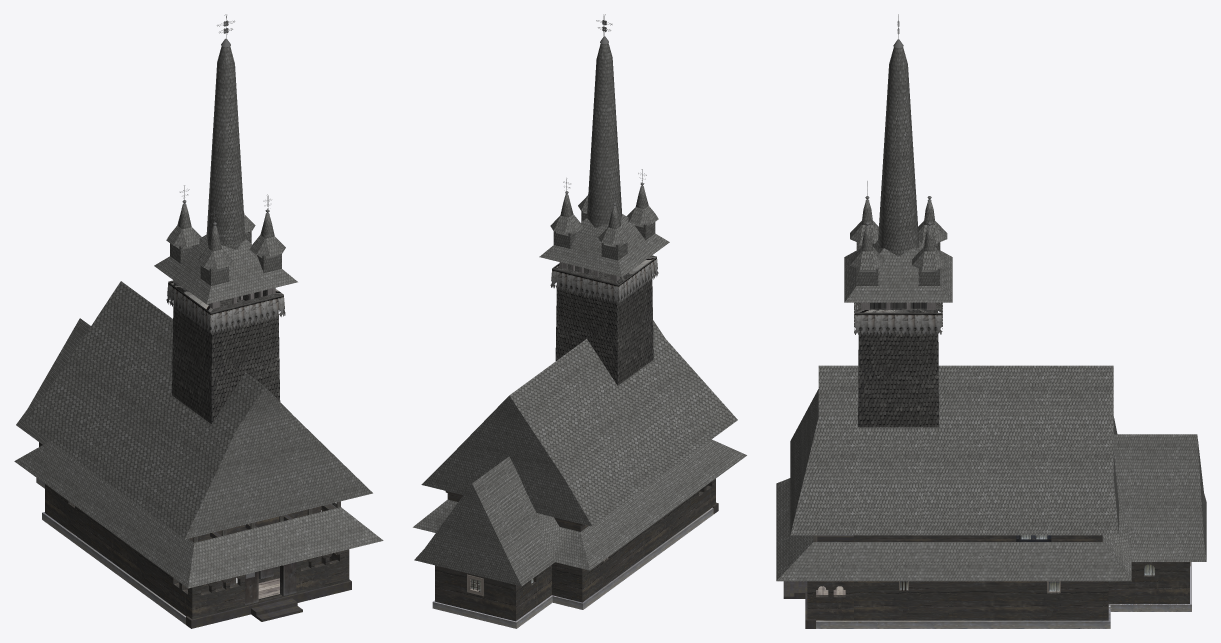
The model's file is DanilovoChurch.FBX.
3 views of the same model, side by side, from view 1: azimuth 30°, elevation 25°; view 2: azimuth 150°, elevation 25°; view 3: azimuth 270°, elevation 25° (orthographic). The views are drawn at different scales.
Parts seen in each view (by area): view 1: Roof2, Roof1, SpireBody, SpireRoof, MainBlock1, Porch, SpireRoofBase, SpireSkirt, Base001, Base, DoorwayOuter, SpireSubSpireRoof003 (+3 smaller); view 2: Roof2, Roof1, SpireBody, SpireRoof, MainBlock1, BackBlock, SpireRoofBase, SpireSkirt, Base, SpireSubSpireRoof001, SpireSubSpireRoof002, SpireSubSpireRoof003 (+1 smaller); view 3: Roof2, Roof1, MainBlock1, SpireBody, SpireRoof, SpireRoofBase, Base, BackBlock, SpireSkirt, Porch, MainBlock2, SpireSubSpireRoof001 (+3 smaller).
Boxes of the visible parts, bbox=[...] form: Roof2: bbox=[24, 281, 372, 539]; Roof1: bbox=[14, 318, 383, 588]; SpireBody: bbox=[172, 282, 280, 423]; SpireRoof: bbox=[206, 46, 245, 249]; MainBlock1: bbox=[45, 484, 321, 603]; Porch: bbox=[169, 504, 349, 619]; SpireRoofBase: bbox=[154, 234, 297, 304]; SpireSkirt: bbox=[166, 280, 285, 334]; Base001: bbox=[186, 579, 351, 628]; Base: bbox=[36, 478, 185, 624]; DoorwayOuter: bbox=[245, 562, 296, 605]; SpireSubSpireRoof003: bbox=[196, 227, 233, 269]; Roof2: bbox=[421, 320, 737, 526]; Roof1: bbox=[413, 439, 746, 586]; SpireBody: bbox=[555, 264, 653, 385]; SpireRoof: bbox=[587, 43, 621, 227]; MainBlock1: bbox=[552, 494, 695, 602]; BackBlock: bbox=[435, 565, 551, 621]; SpireRoofBase: bbox=[539, 214, 669, 277]; SpireSkirt: bbox=[550, 255, 658, 304]; Base: bbox=[432, 507, 713, 628]; SpireSubSpireRoof001: bbox=[550, 195, 583, 233]; SpireSubSpireRoof002: bbox=[598, 207, 630, 245]; SpireSubSpireRoof003: bbox=[626, 187, 658, 225]; Roof2: bbox=[790, 365, 1118, 535]; Roof1: bbox=[776, 434, 1206, 581]; MainBlock1: bbox=[854, 581, 1108, 620]; SpireBody: bbox=[858, 302, 938, 427]; SpireRoof: bbox=[877, 47, 919, 256]; SpireRoofBase: bbox=[844, 240, 952, 302]; Base: bbox=[816, 562, 1191, 628]; BackBlock: bbox=[1108, 562, 1189, 603]; SpireSkirt: bbox=[854, 302, 942, 334]; Porch: bbox=[807, 541, 853, 620]; MainBlock2: bbox=[854, 535, 1102, 541]; SpireSubSpireRoof001: bbox=[912, 227, 947, 269].
Size of the model in its own units: 337 by 923 by 627.
